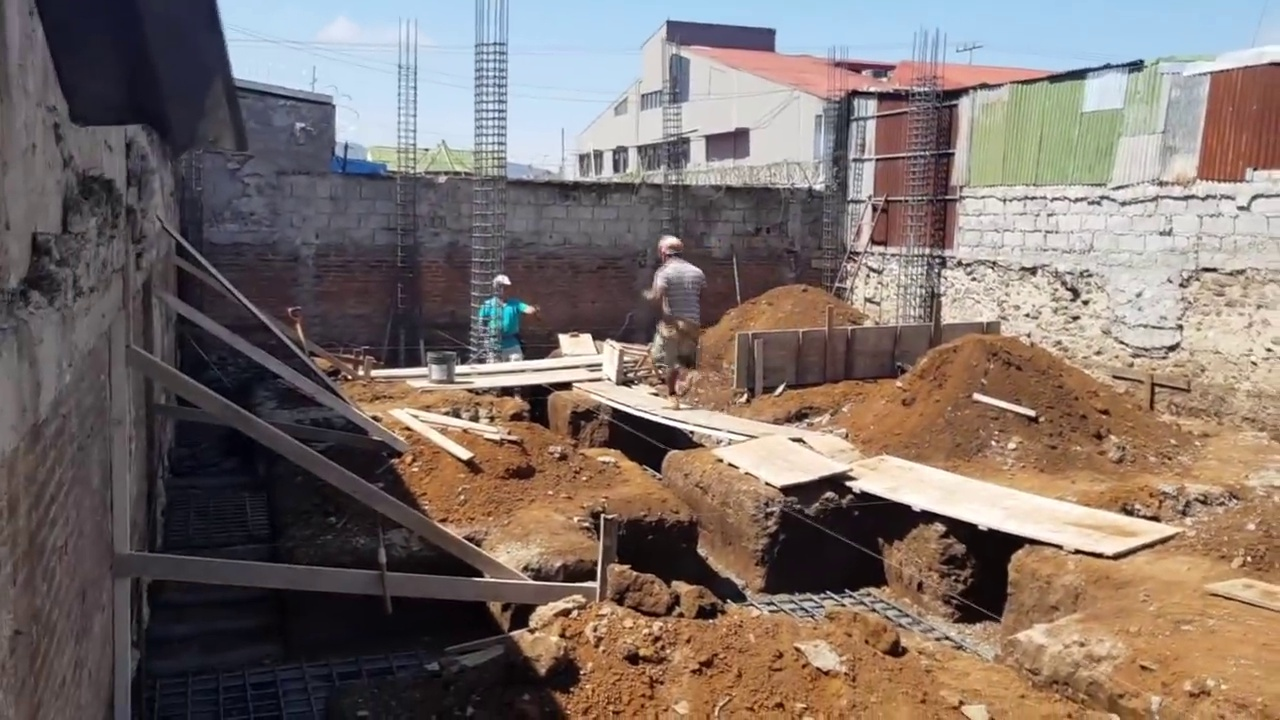helmet: (657, 232, 686, 257), (493, 275, 511, 289)
helmet-on: (657, 232, 686, 261), (491, 276, 510, 296)
person: (644, 229, 706, 395), (468, 271, 539, 374)
